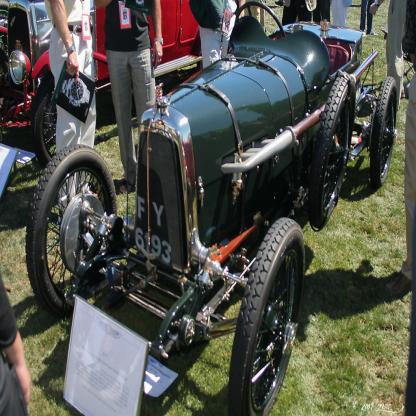Car: (24, 1, 398, 416), (1, 1, 238, 169)
